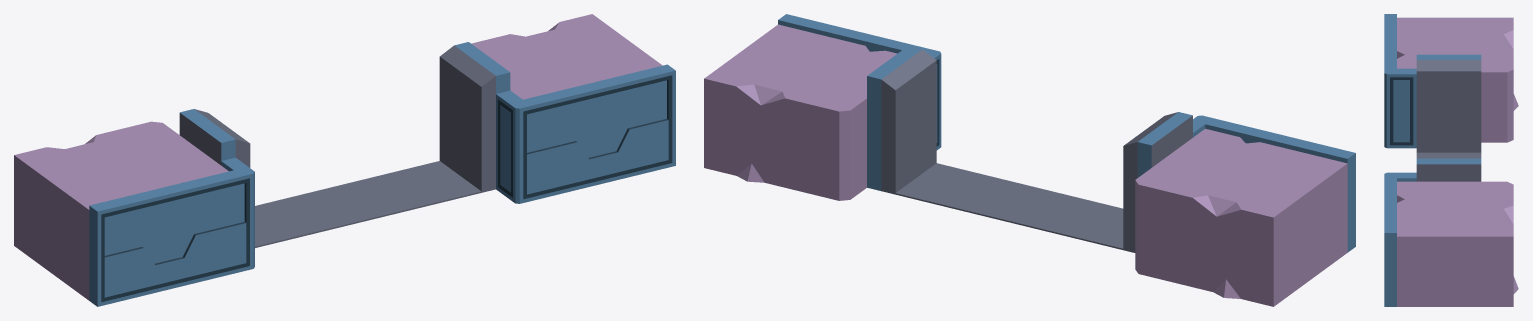
Rendered from Door_tutorial.fbx.
3 views of the same model, side by side, from view 1: azimuth 30°, elevation 25°; view 2: azimuth 150°, elevation 25°; view 3: azimuth 270°, elevation 25° (orthographic). The views are drawn at different scales.
Visible parts, largest first — view 1: Door_tutorial; view 2: Door_tutorial; view 3: Door_tutorial.
Boxes of the visible parts, bbox=[...] form: Door_tutorial: bbox=[14, 14, 675, 306]; Door_tutorial: bbox=[704, 14, 1355, 306]; Door_tutorial: bbox=[1384, 14, 1518, 306].
Bounding box in the file's own units: 4000 × 750 × 1039.
